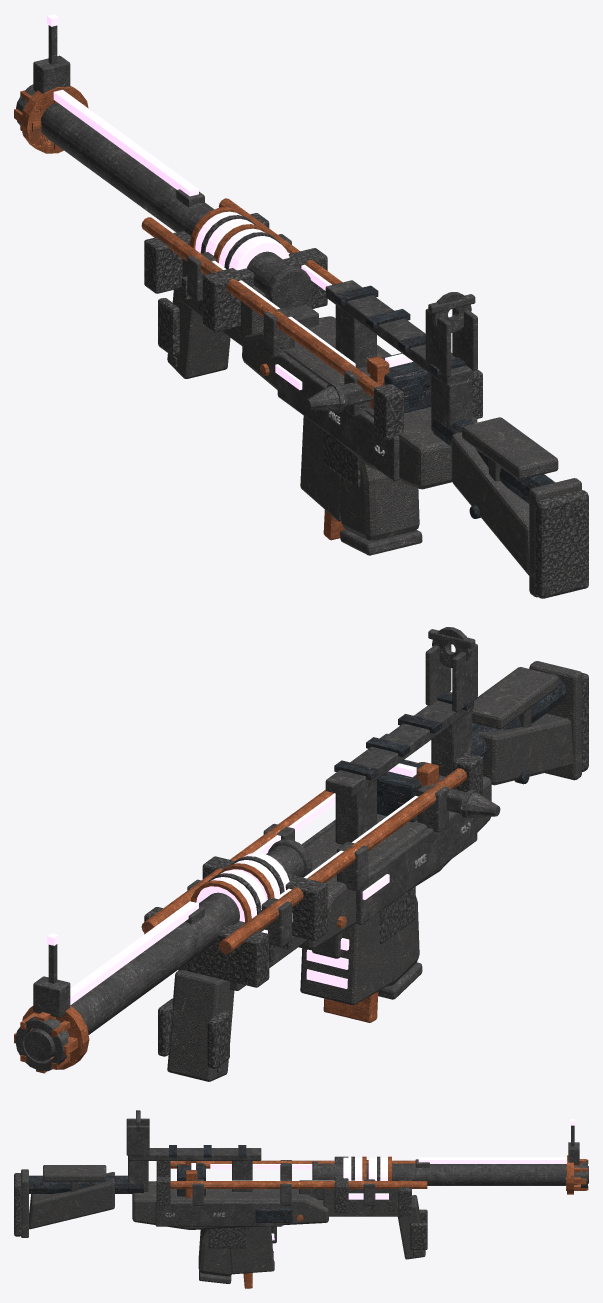
The model's file is pike.gltf.
3 renders of one model, top to bottom at view 1: azimuth 30°, elevation 25°; view 2: azimuth 150°, elevation 25°; view 3: azimuth 270°, elevation 25°, orthographic. The views are drawn at different scales.
Visible parts, largest first — view 1: body, factory-optic, bolt, mag; view 2: body, mag, factory-optic, bolt; view 3: body, mag, factory-optic, bolt.
Boxes of the visible parts, x1=… form: body: x1=14, y1=84, x2=588, y2=598; factory-optic: x1=33, y1=14, x2=477, y2=377; bolt: x1=305, y1=353, x2=431, y2=413; mag: x1=300, y1=416, x2=345, y2=540; body: x1=14, y1=661, x2=588, y2=1081; mag: x1=300, y1=912, x2=394, y2=1022; factory-optic: x1=33, y1=627, x2=477, y2=1017; bolt: x1=377, y1=759, x2=500, y2=822; body: x1=14, y1=1145, x2=588, y2=1283; mag: x1=229, y1=1226, x2=274, y2=1288; factory-optic: x1=126, y1=1110, x2=579, y2=1164; bolt: x1=177, y1=1161, x2=205, y2=1198.
Bounding box in the file's own units: 0.165 × 0.3263 × 0.995.
7 materials, 6 textured.
